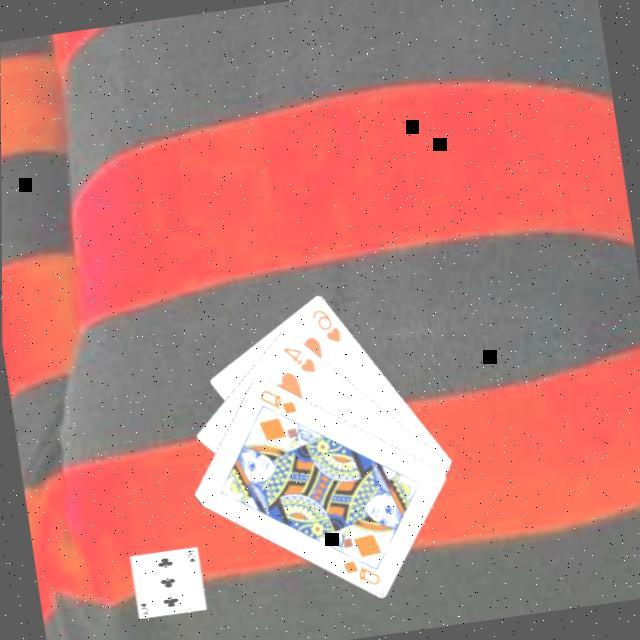4H: (277, 341, 318, 382)
6H: (306, 305, 343, 350)
QD: (253, 384, 299, 424), (337, 555, 383, 595)
